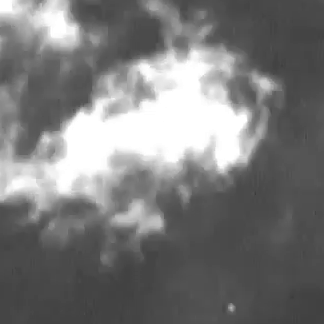Target: (228, 303, 234, 310)
